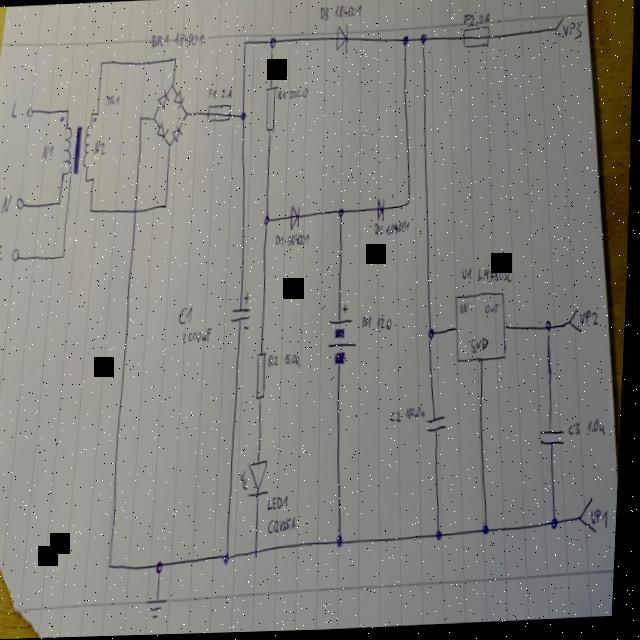capacitor: (230, 289, 254, 332), (540, 426, 569, 451), (427, 414, 449, 435)
crossover: (133, 205, 137, 213)
diode: (241, 457, 273, 499), (333, 23, 349, 53), (289, 204, 302, 231), (156, 86, 169, 109), (376, 197, 386, 223), (172, 87, 184, 107), (156, 120, 168, 139), (171, 125, 182, 141)
ground: (149, 595, 171, 620)
junction: (552, 514, 564, 535), (267, 35, 277, 53), (428, 325, 437, 343), (158, 559, 168, 575), (339, 533, 348, 549), (225, 550, 234, 566), (438, 528, 447, 544), (484, 524, 494, 538), (400, 34, 409, 49), (545, 321, 554, 335), (337, 205, 346, 219), (263, 213, 272, 227), (418, 34, 427, 48), (109, 559, 117, 571), (240, 109, 246, 121), (256, 546, 262, 558), (163, 199, 168, 210), (64, 106, 70, 114), (169, 80, 175, 88), (57, 197, 62, 205), (88, 205, 93, 213), (406, 199, 411, 207), (151, 113, 156, 121), (183, 109, 188, 117), (166, 139, 171, 147), (95, 108, 100, 116), (172, 55, 176, 63), (138, 113, 142, 121), (98, 58, 102, 66), (241, 38, 245, 46), (62, 252, 66, 260), (91, 174, 95, 182), (89, 110, 94, 116), (85, 176, 89, 182)
resistor: (263, 84, 277, 135), (256, 351, 270, 401)
source: (327, 307, 358, 361)
terminal: (581, 498, 602, 537), (568, 309, 584, 337), (552, 18, 564, 40), (11, 244, 21, 261), (16, 194, 25, 208), (25, 105, 34, 117)
text: (478, 266, 514, 286), (270, 515, 300, 536), (183, 325, 213, 345), (172, 29, 203, 48), (332, 1, 361, 20), (385, 218, 412, 237), (587, 418, 609, 439), (593, 509, 612, 532), (560, 22, 581, 42), (580, 310, 601, 330), (269, 494, 292, 511), (287, 231, 311, 247), (471, 337, 491, 355), (149, 30, 169, 48), (178, 304, 195, 325), (407, 407, 429, 423), (285, 352, 303, 370), (377, 314, 394, 332), (40, 140, 55, 160), (288, 86, 308, 100), (0, 192, 13, 212), (569, 421, 583, 439), (104, 92, 120, 106), (93, 138, 106, 155), (9, 95, 19, 117), (461, 13, 475, 28), (391, 410, 405, 425), (373, 221, 385, 238), (476, 13, 490, 27), (269, 352, 281, 368), (462, 267, 474, 283), (362, 314, 374, 330), (485, 304, 500, 316), (318, 6, 329, 22), (275, 232, 286, 248), (220, 86, 231, 100), (460, 301, 470, 316), (207, 87, 216, 101), (277, 88, 285, 100), (0, 241, 4, 261)
transformer: (59, 122, 93, 177)
